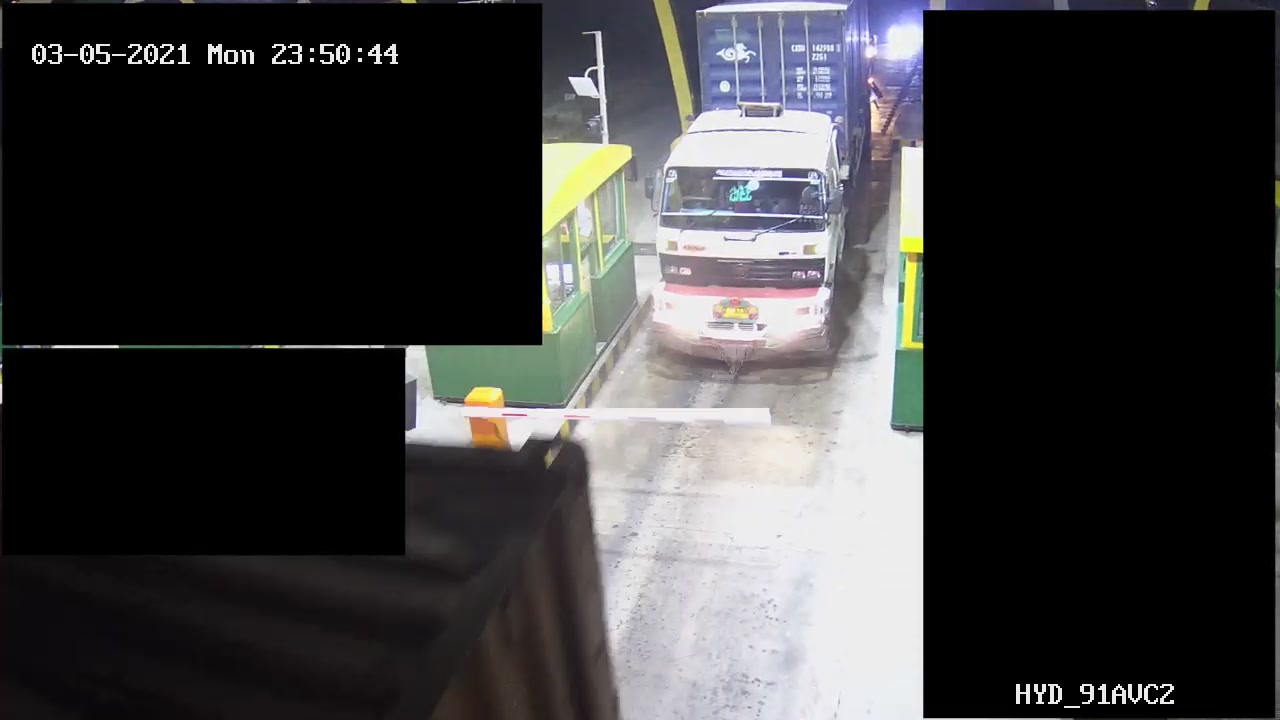F6: (637, 1, 885, 372)
